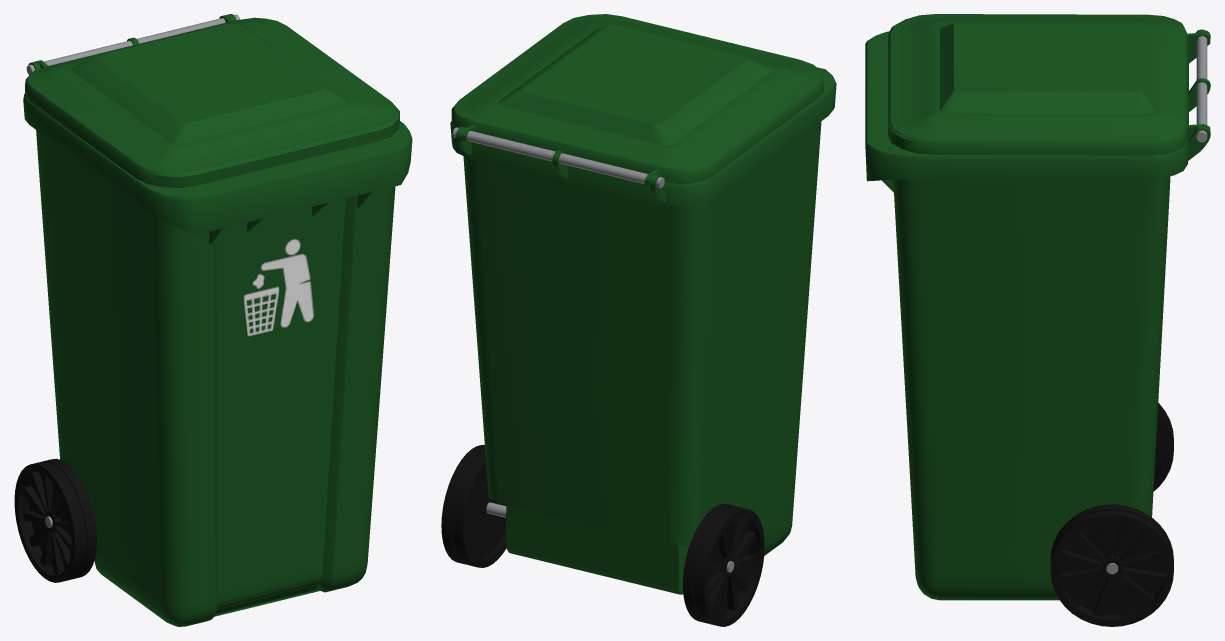
Rendered from waste_can.glb.
3 views of the same model, side by side, from view 1: azimuth 30°, elevation 25°; view 2: azimuth 150°, elevation 25°; view 3: azimuth 270°, elevation 25° (orthographic). The views are drawn at different scales.
Visible parts, largest first — view 1: Waste_Can, Top; view 2: Waste_Can, Top; view 3: Waste_Can, Top.
Boxes of the visible parts, x1,y1,x2,y2 form: Waste_Can: (14,14,412,626); Top: (25,15,399,187); Waste_Can: (441,67,836,626); Top: (451,14,823,187); Waste_Can: (865,29,1210,626); Top: (888,14,1210,155).
Bounding box in the file's own units: 0.5994 × 1.07 × 0.6662.
1 material, 1 textured.
